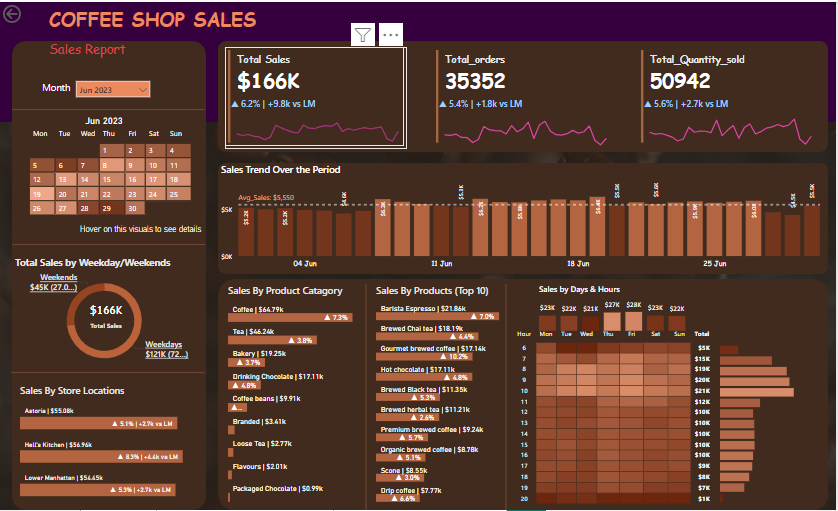

This screenshot's page, from the dashboard's own definition file:
{"tool":"powerbi","page":{"name":"Page 1","canvas":[1400,850],"ordinal":0},"visuals":[{"type":"shape","box":[0,0,1400.5,200.8],"z":0},{"type":"shape","box":[20.1,65.3,324.6,784.7],"z":1000},{"type":"shape","box":[364.8,65.3,1020.7,185.7],"z":2000},{"type":"textbox","box":[77,0,373.1,58.6],"z":3000},{"type":"cardVisual","fields":{"Data":["Transactions.Total Sales"]},"box":[377.2,75.3,299.5,165.6],"z":4000,"group":"g1"},{"type":"cardVisual","fields":{"Data":["Transactions.Total_orders"]},"box":[724.5,75.3,299.5,165.6],"z":4000,"group":"g2"},{"type":"cardVisual","fields":{"Data":["Transactions.Total_Quanty_sold"]},"box":[1067.5,75.3,299.5,165.6],"z":4000,"group":"g3"},{"type":"slicer","fields":{"Values":["Date Table.Month_Yr"]},"box":[122.9,127.1,134.3,51.4],"z":4000},{"type":"group","id":"g1","title":"Group 1","box":[377.2,75.3,304.5,170.7],"z":5000},{"type":"group","id":"g2","title":"Group 1","box":[724.5,75.3,304.5,170.7],"z":6000},{"type":"lineChart","fields":{"Category":["Date Table.Date.Variation.Date Hierarchy.Year","Date Table.Date.Variation.Date Hierarchy.Quarter","Date Table.Date.Variation.Date Hierarchy.Month","Date Table.Date.Variation.Date Hierarchy.Day"],"Y":["Transactions.Total Sales"]},"box":[382.2,159,299.5,87],"z":6000,"group":"g1"},{"type":"lineChart","fields":{"Category":["Date Table.Date.Variation.Date Hierarchy.Year","Date Table.Date.Variation.Date Hierarchy.Quarter","Date Table.Date.Variation.Date Hierarchy.Month","Date Table.Date.Variation.Date Hierarchy.Day"],"Y":["Transactions.Total_orders"]},"box":[729.5,159,299.5,87],"z":6000,"group":"g2"},{"type":"lineChart","fields":{"Category":["Date Table.Date.Variation.Date Hierarchy.Year","Date Table.Date.Variation.Date Hierarchy.Quarter","Date Table.Date.Variation.Date Hierarchy.Month","Date Table.Date.Variation.Date Hierarchy.Day"],"Y":["Transactions.Total_Quanty_sold"]},"box":[1072.5,159,299.5,87],"z":6000,"group":"g3"},{"type":"group","id":"g3","title":"Group 1","box":[1067.5,75.3,304.5,170.7],"z":7000},{"type":"pivotTable","fields":{"Values":["Min(Date Table.Day_Number)"],"Rows":["Date Table.Week_number"],"Columns":["Date Table.Day_Name"]},"box":[20,202.9,314.3,178.6],"z":8000},{"type":"card","fields":{"Values":["Min(Date Table.Month_Yr)"]},"box":[111.4,178.6,124.3,40],"z":9000},{"type":"card","fields":{"Values":["Transactions.Foot_note"]},"box":[88.6,361.4,292.9,38.6],"z":10000},{"type":"shape","box":[20,387.1,324.3,38.6],"z":11000},{"type":"shape","box":[20,160,322.9,38.6],"z":12000},{"type":"donutChart","fields":{"Category":["Date Table.Weekday/Weekends"],"Y":["Transactions.Total Sales"]},"box":[20,425.7,308.6,195.7],"z":13000},{"type":"card","fields":{"Values":["Transactions.Total Sales"]},"box":[108.6,492.9,137.1,62.9],"z":14000},{"type":"shape","box":[18.6,601.4,324.3,38.6],"z":15000},{"type":"clusteredBarChart","title":"Sales By Store Locations","fields":{"Category":["Transactions.store_location"],"Y":["Transactions.Placeholder","Transactions.Total Sales"]},"box":[28.6,640,308.6,195.7],"z":16000},{"type":"shape","box":[364.3,268.6,1021.4,185.7],"z":17000},{"type":"columnChart","title":"Sales Trend Over the Period","fields":{"Category":["Transactions.transaction_date"],"Y":["Transactions.Total Sales"]},"box":[364.3,268.6,1020,185.7],"z":18000},{"type":"shape","box":[364.3,462.9,1021.4,387.1],"z":19000},{"type":"clusteredBarChart","title":"Sales By Product Catagory","fields":{"Y":["Transactions.Placeholder","Transactions.Total Sales"],"Category":["Transactions.product_category"]},"box":[377.1,471.4,250,370],"z":20000},{"type":"shape","box":[597.1,471.4,30,378.6],"z":21000},{"type":"clusteredBarChart","title":"Sales By Products (Top 10)","fields":{"Y":["Transactions.Placeholder","Transactions.Total Sales"],"Category":["Transactions.product_type"]},"box":[624.3,471.4,250,370],"z":22000},{"type":"shape","box":[831.4,471.4,30,378.6],"z":23000},{"type":"pivotTable","fields":{"Rows":["Transactions.Hour"],"Columns":["Date Table.Day_Name"],"Values":["Transactions.Total Sales"]},"box":[852.9,541.4,350,309],"z":24000},{"type":"actionButton","box":[0,0,100,40],"z":25000},{"type":"barChart","fields":{"Category":["Transactions.Hour"],"Y":["Transactions.Total Sales"]},"box":[1200,561.4,184.3,280],"z":26000},{"type":"columnChart","title":"Sales by Days & Hours","fields":{"Category":["Date Table.Day_Name"],"Y":["Transactions.Total Sales"]},"box":[897.1,471.4,255.7,84.3],"z":27000},{"type":"textbox","box":[65.7,127.1,104.3,32.9],"z":28000},{"type":"textbox","box":[88.7,58.6,160.6,53.5],"z":29000},{"type":"textbox","box":[22.9,100,158.6,41.4],"z":30000}]}

Visuals, with their boxes in screenshot pixels (x1, y1, x2, y2), scaled from the page's 1400x850 canvas onto the 838x511 screenshot:
shape: detection(0, 0, 837, 121)
shape: detection(12, 39, 206, 510)
shape: detection(218, 39, 829, 151)
textbox: detection(46, 0, 269, 35)
cardVisual - Transactions.Total Sales: detection(226, 45, 405, 145)
cardVisual - Transactions.Total_orders: detection(434, 45, 613, 145)
cardVisual - Transactions.Total_Quanty_sold: detection(639, 45, 818, 145)
slicer - Date Table.Month_Yr: detection(74, 76, 154, 107)
"Group 1" group: detection(226, 45, 408, 148)
"Group 1" group: detection(434, 45, 616, 148)
lineChart - Date Table.Date.Variation.Date Hierarchy.Year x Date Table.Date.Variation.Date Hierarchy.Quarter: detection(229, 96, 408, 148)
lineChart - Date Table.Date.Variation.Date Hierarchy.Year x Date Table.Date.Variation.Date Hierarchy.Quarter: detection(437, 96, 616, 148)
lineChart - Date Table.Date.Variation.Date Hierarchy.Year x Date Table.Date.Variation.Date Hierarchy.Quarter: detection(642, 96, 821, 148)
"Group 1" group: detection(639, 45, 821, 148)
pivotTable - Min(Date Table.Day_Number) x Date Table.Week_number: detection(12, 122, 200, 229)
card - Min(Date Table.Month_Yr): detection(67, 107, 141, 131)
card - Transactions.Foot_note: detection(53, 217, 228, 240)
shape: detection(12, 233, 206, 256)
shape: detection(12, 96, 205, 119)
donutChart - Date Table.Weekday/Weekends x Transactions.Total Sales: detection(12, 256, 197, 374)
card - Transactions.Total Sales: detection(65, 296, 147, 334)
shape: detection(11, 362, 205, 385)
"Sales By Store Locations" clusteredBarChart: detection(17, 385, 202, 502)
shape: detection(218, 161, 829, 273)
"Sales Trend Over the Period" columnChart: detection(218, 161, 829, 273)
shape: detection(218, 278, 829, 510)
"Sales By Product Catagory" clusteredBarChart: detection(226, 283, 375, 506)
shape: detection(357, 283, 375, 510)
"Sales By Products (Top 10)" clusteredBarChart: detection(374, 283, 523, 506)
shape: detection(498, 283, 516, 510)
pivotTable - Transactions.Hour x Date Table.Day_Name: detection(511, 325, 720, 510)
actionButton: detection(0, 0, 60, 24)
barChart - Transactions.Hour x Transactions.Total Sales: detection(718, 338, 829, 506)
"Sales by Days & Hours" columnChart: detection(537, 283, 690, 334)
textbox: detection(39, 76, 102, 96)
textbox: detection(53, 35, 149, 67)
textbox: detection(14, 60, 109, 85)
